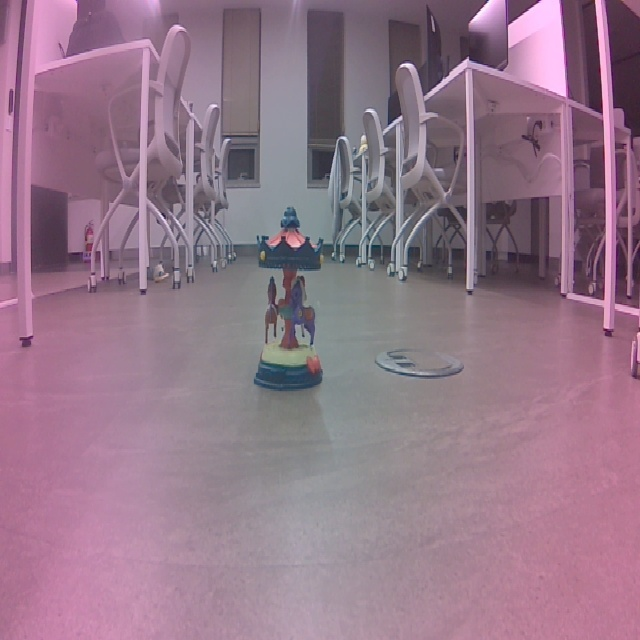목적지: (248, 197, 335, 406)
